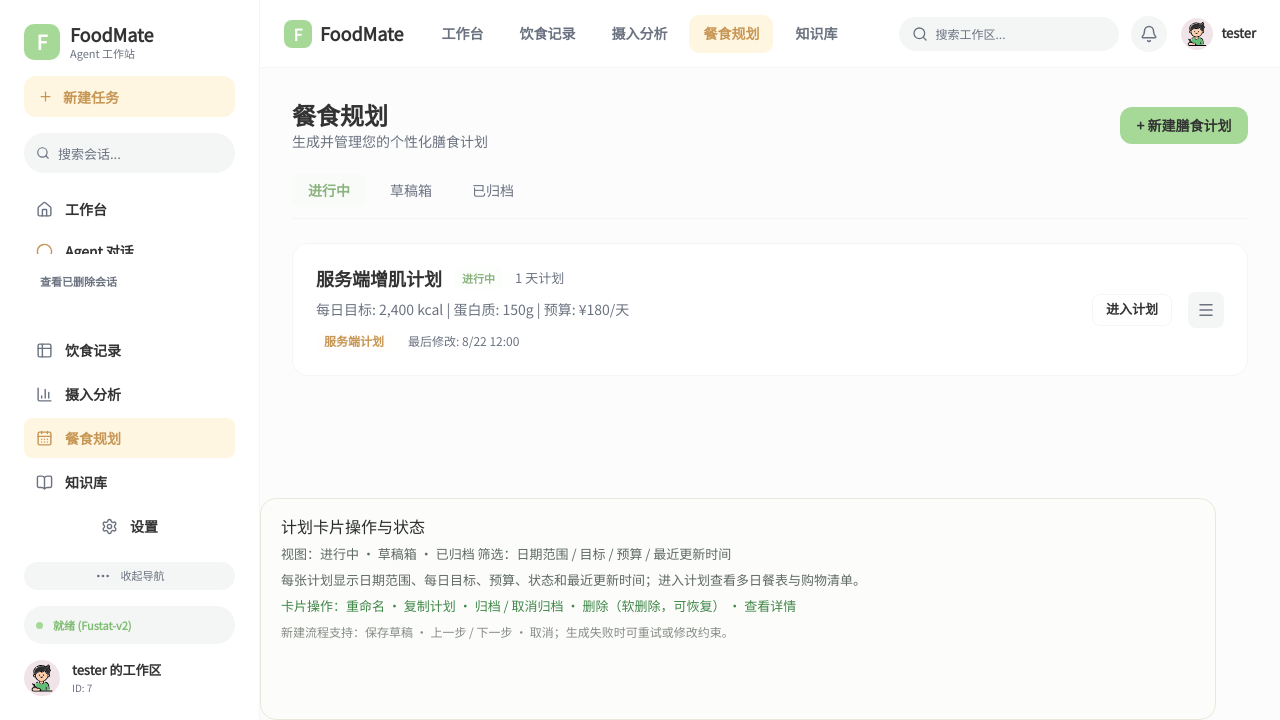
Test case: PlanningPage real mode › submits the real wizard to create a server plan
The image size is (1280, 720).
Click the button "+ 新建膳食计划" at (1184, 125), box [1120,106,1248,144]
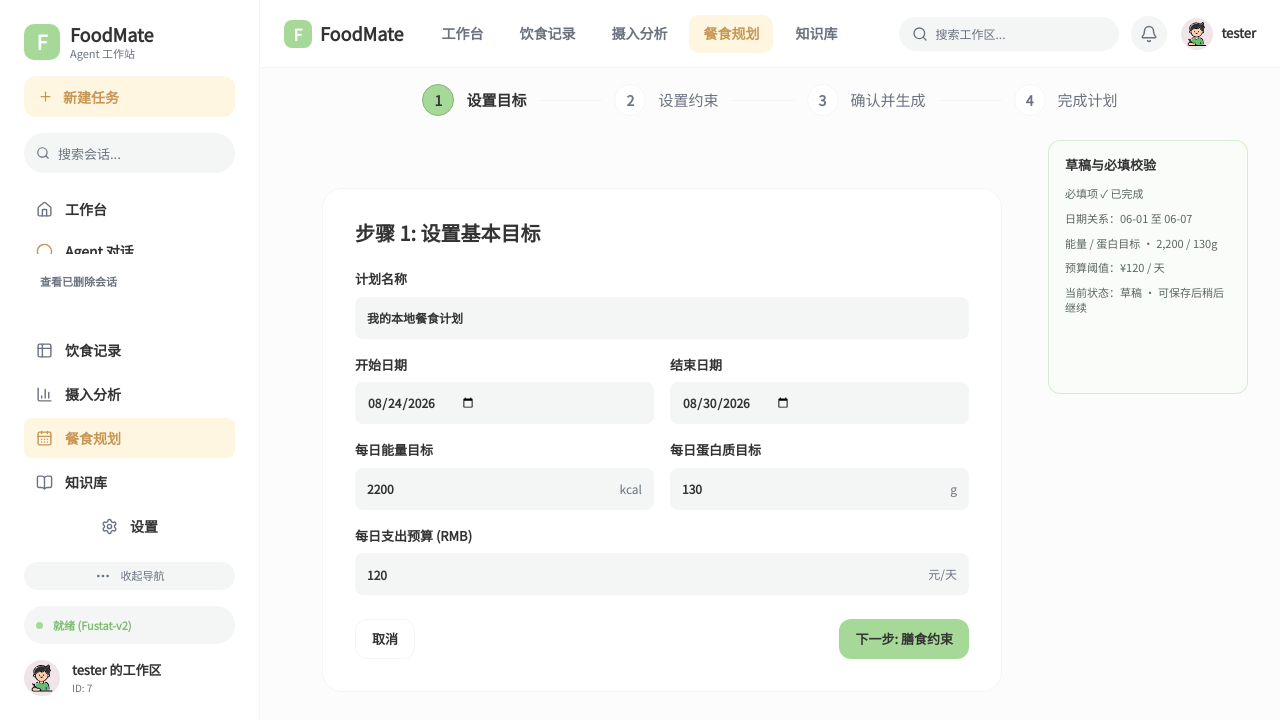
Click the button "下一步: 膳食约束" at (904, 639), box [840,619,969,659]
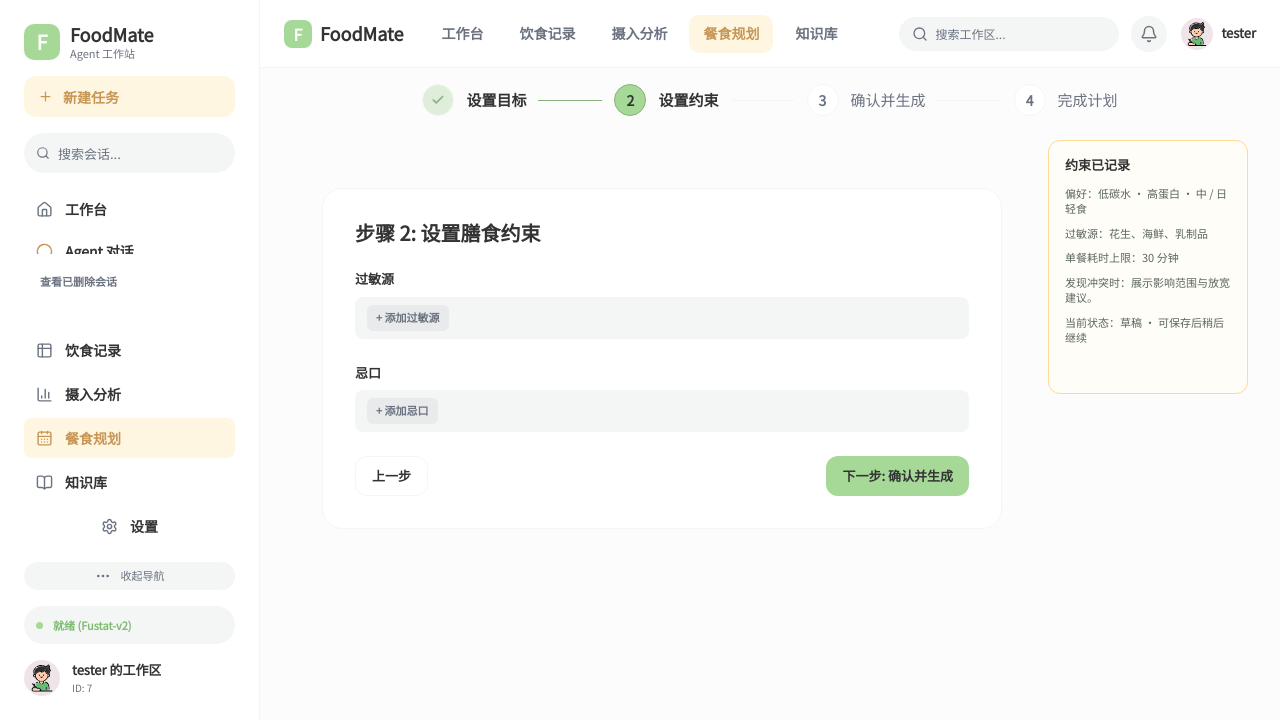
Click the button "下一步: 确认并生成" at (898, 476), box [826,456,969,496]
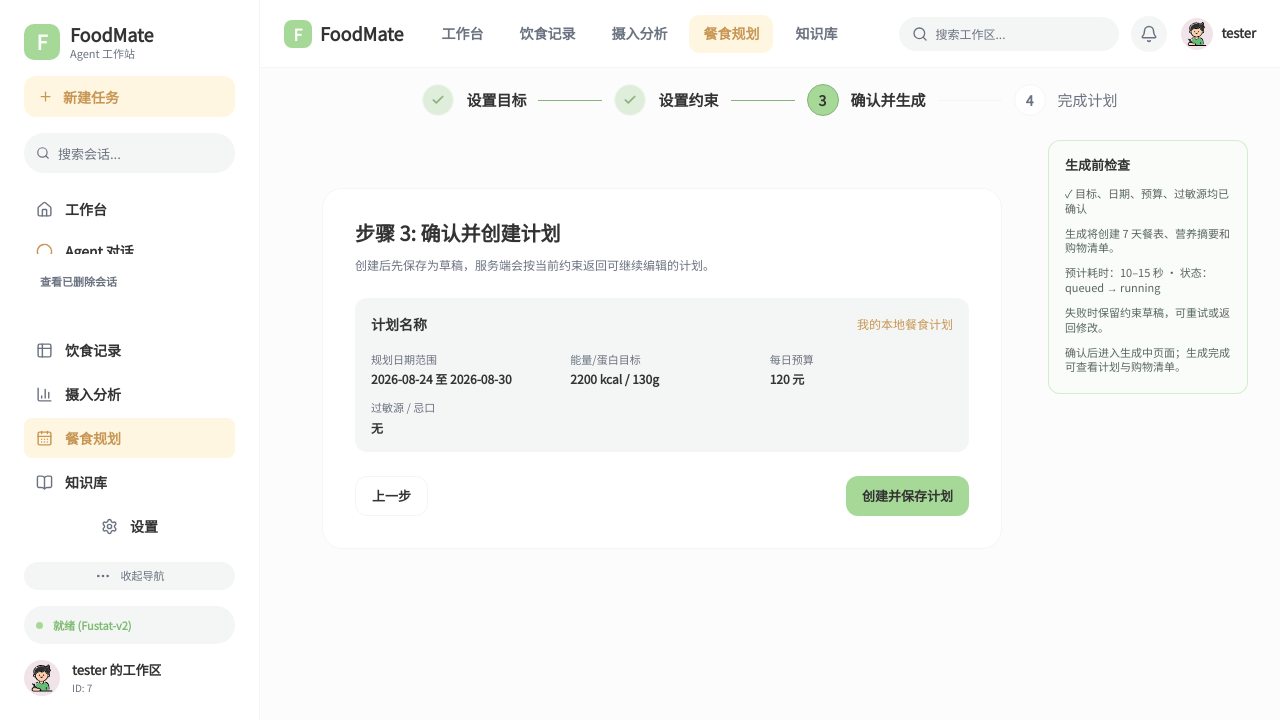
Click the button "创建并保存计划" at (908, 496), box [846,476,969,516]
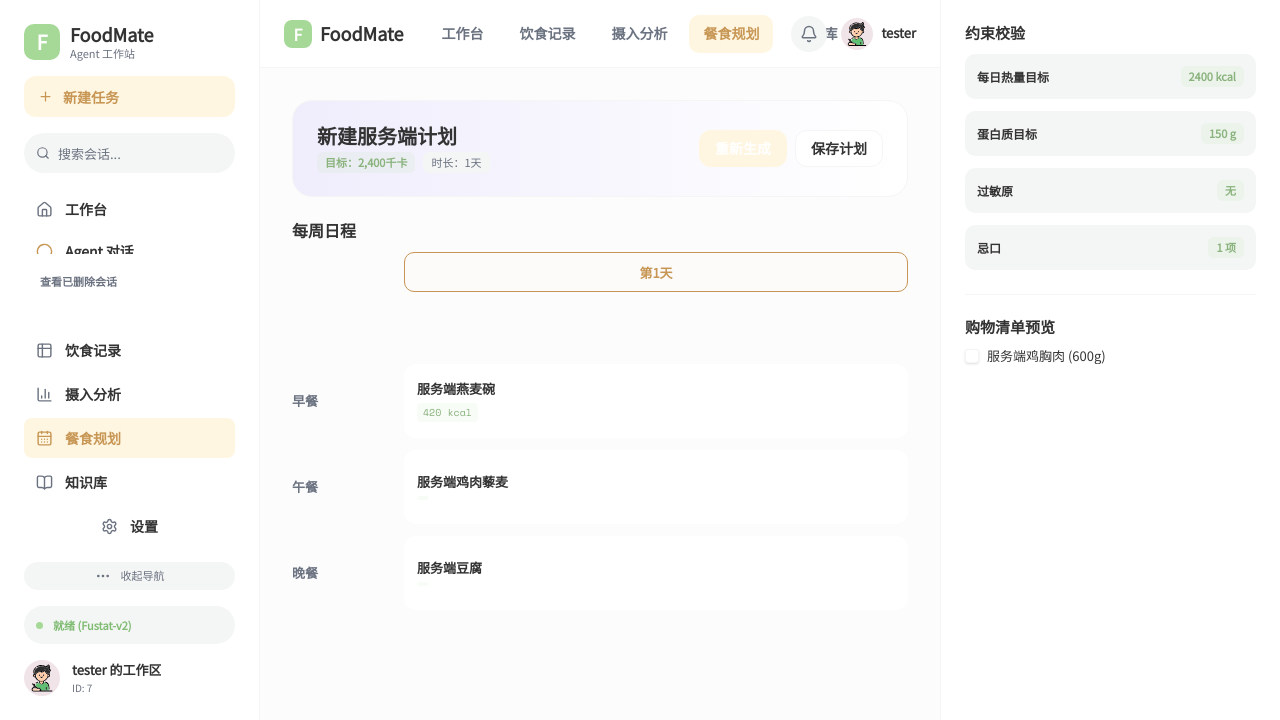
Now the heading "新建服务端计划" is shown, box [317,121,457,150]
